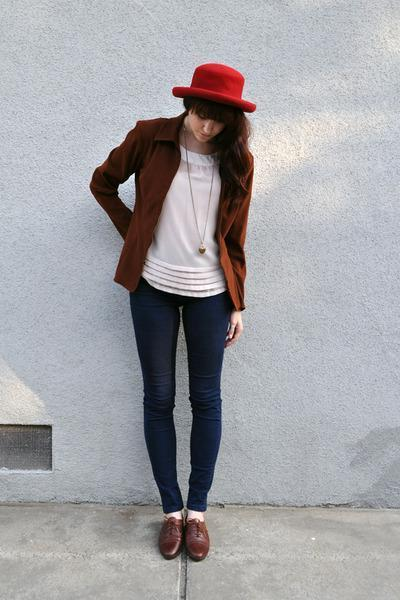jacket: (87, 113, 260, 312)
short sleeve shirt: (136, 139, 232, 304)
trousers: (127, 280, 239, 522)
